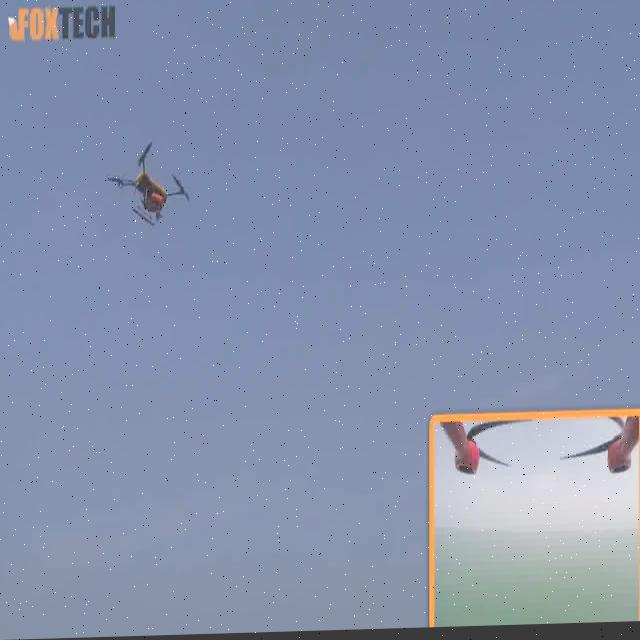drone: (108, 139, 191, 229)
